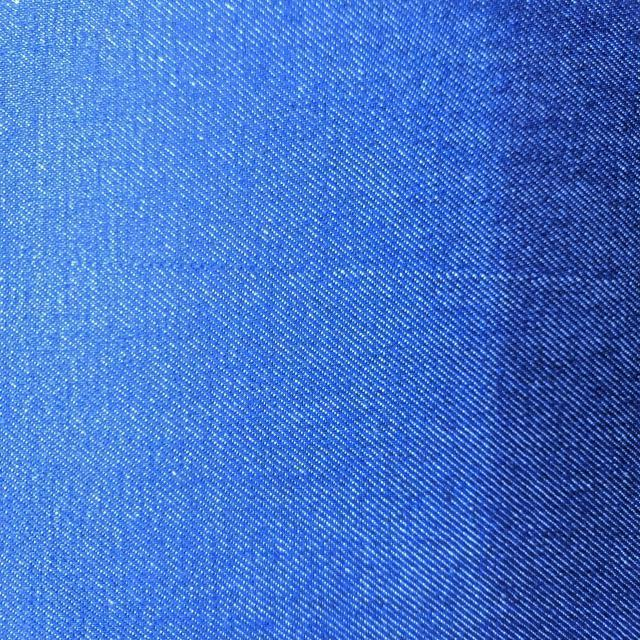Line: (9, 250, 628, 287)
